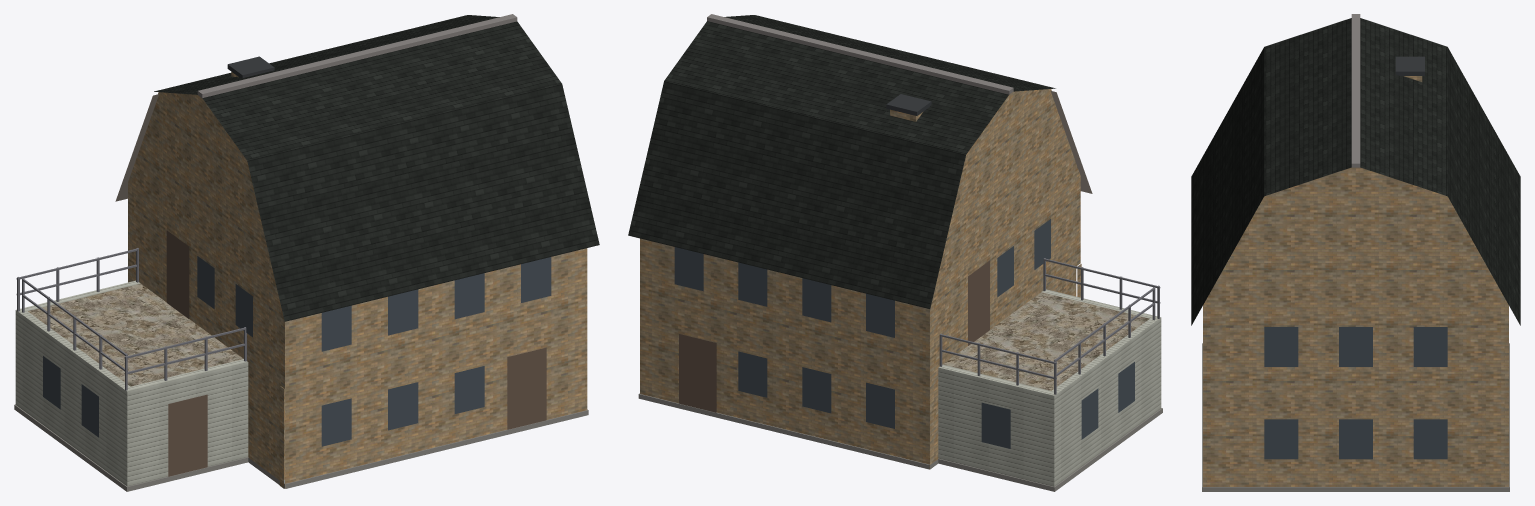
File: mh-gambrel-house.zfix-v22.lod1.glb
The picture shows the model from 3 angles, left to right: view 1: azimuth 30°, elevation 25°; view 2: azimuth 150°, elevation 25°; view 3: azimuth 270°, elevation 25°; orthographic projection. The views are drawn at different scales.
Visible parts, largest first — view 1: mh-gambrel-house; view 2: mh-gambrel-house; view 3: mh-gambrel-house.
Boxes of the visible parts, x1,y1,x2,y2 form: mh-gambrel-house: (14,14,599,491); mh-gambrel-house: (628,14,1162,491); mh-gambrel-house: (1191,14,1520,491).
Size of the model in its own units: 14.24 by 10.75 by 9.7.
5 materials, 4 textured.
